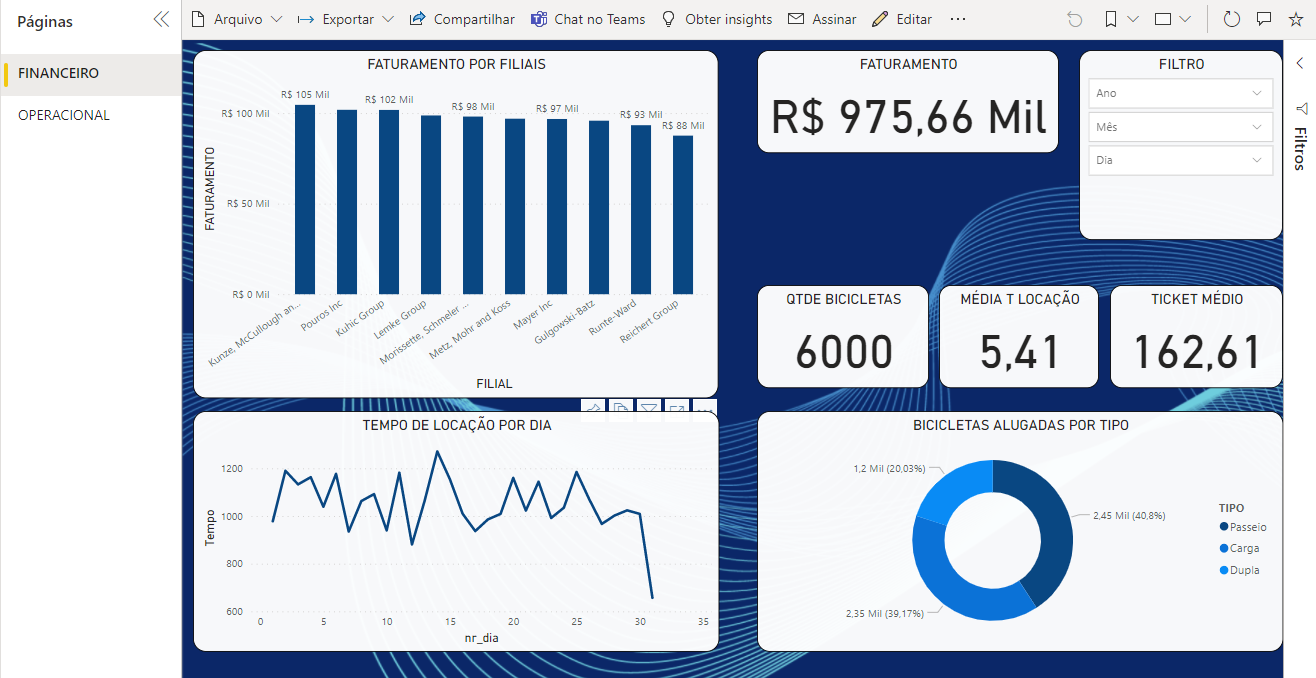

What the dashboard file says about the page in this screenshot:
{"tool":"powerbi","page":{"name":"FINANCEIRO","canvas":[1280,720],"ordinal":0},"visuals":[{"type":"clusteredColumnChart","title":"FATURAMENTO POR FILIAIS","fields":{"Y":["public ft_locacao_bike.md_valor_loacao"],"Category":["public dim_filial.nm_filial"]},"box":[12.8,12.8,610.7,404.7],"z":0},{"type":"card","title":"FATURAMENTO","fields":{"Values":["public ft_locacao_bike.md_valor_loacao"]},"box":[668.1,13,350.6,119.8],"z":1000},{"type":"lineChart","title":"TEMPO DE LOCAÇÃO POR DIA","fields":{"Y":["public ft_locacao_bike.md_tempo_locacao"],"Category":["public dim_data.nr_dia"]},"box":[13,432.9,611.8,279.9],"z":2000},{"type":"SmartFilterBySQLBI1458262140625","title":"FILTRO","fields":{"Values":["public dim_data.nr_ano","public dim_data.nm_mes","public dim_data.nr_dia"]},"box":[1043.2,13,236.6,220.8],"z":3000},{"type":"card","title":"QTDE BICICLETAS","fields":{"Values":["public ft_locacao_bike.sk_bicicleta"]},"box":[668.1,285.7,200,120],"z":4000},{"type":"card","title":"MÉDIA T LOCAÇÃO","fields":{"Values":["public ft_locacao_bike.Media T Locacao"]},"box":[880.2,285.7,186.1,119.8],"z":5000},{"type":"card","title":"TICKET MÉDIO","fields":{"Values":["public ft_locacao_bike.Ticket Medio"]},"box":[1079.3,285.7,200.6,119.8],"z":6000},{"type":"donutChart","title":"BICICLETAS ALUGADAS POR TIPO","fields":{"Category":["public dim_bicicleta.tipo"],"Y":["public ft_locacao_bike.sk_bicicleta"]},"box":[668.1,432.9,611.8,279.9],"z":7000}]}

Visuals, with their boxes on the page's 1280x720 design canvas (x1, y1, x2, y2). These are canvas units, not pixel positions in the 1316x678 screenshot, which may show the page scaled, cropped or inside an application window:
"FATURAMENTO POR FILIAIS" clusteredColumnChart: {"left": 13, "top": 13, "right": 624, "bottom": 418}
"FATURAMENTO" card: {"left": 668, "top": 13, "right": 1019, "bottom": 133}
"TEMPO DE LOCAÇÃO POR DIA" lineChart: {"left": 13, "top": 433, "right": 625, "bottom": 713}
"FILTRO" SmartFilterBySQLBI1458262140625: {"left": 1043, "top": 13, "right": 1280, "bottom": 234}
"QTDE BICICLETAS" card: {"left": 668, "top": 286, "right": 868, "bottom": 406}
"MÉDIA T LOCAÇÃO" card: {"left": 880, "top": 286, "right": 1066, "bottom": 406}
"TICKET MÉDIO" card: {"left": 1079, "top": 286, "right": 1280, "bottom": 406}
"BICICLETAS ALUGADAS POR TIPO" donutChart: {"left": 668, "top": 433, "right": 1280, "bottom": 713}
